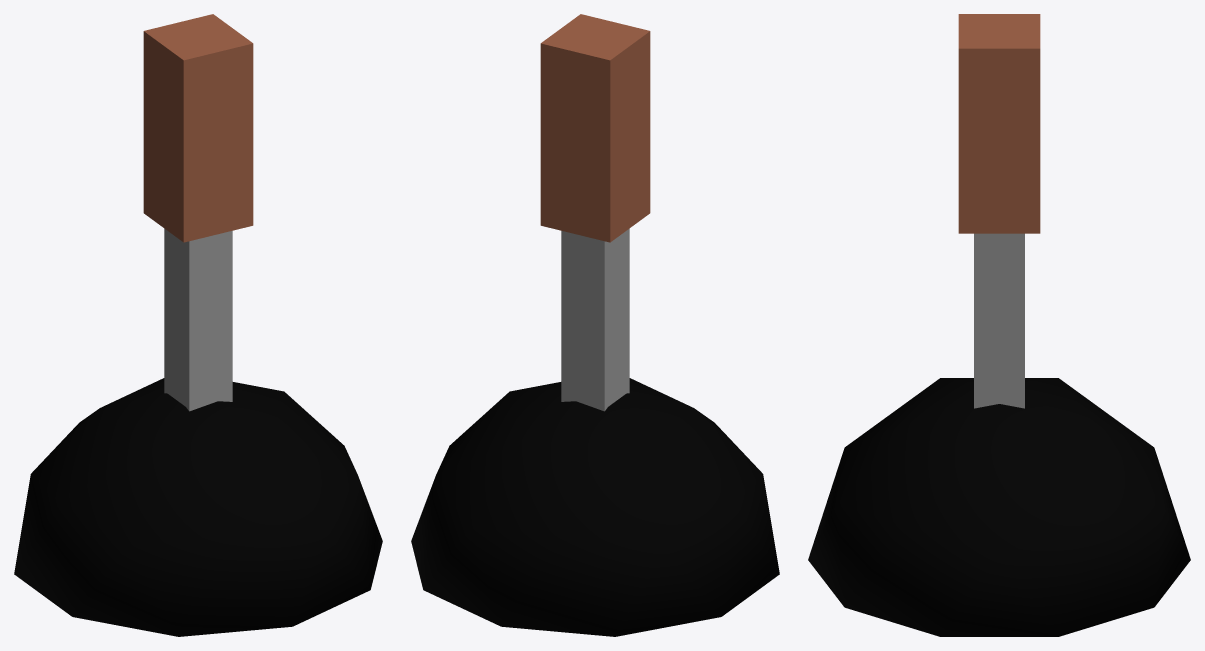
The model's file is ree chaque.fbx.
3 views of the same model, side by side, from view 1: azimuth 30°, elevation 25°; view 2: azimuth 150°, elevation 25°; view 3: azimuth 270°, elevation 25° (orthographic).
Visible parts, largest first — view 1: Icosphere, Cube.003; view 2: Icosphere, Cube.003; view 3: Icosphere, Cube.003.
Part boxes in pixels (bbox=[...]): Icosphere: bbox=[14, 378, 382, 636]; Cube.003: bbox=[143, 14, 253, 411]; Icosphere: bbox=[411, 378, 779, 636]; Cube.003: bbox=[540, 14, 650, 411]; Icosphere: bbox=[808, 378, 1190, 636]; Cube.003: bbox=[958, 14, 1040, 408].
Bounding box in the file's own units: 35.66 × 57.13 × 37.5.
